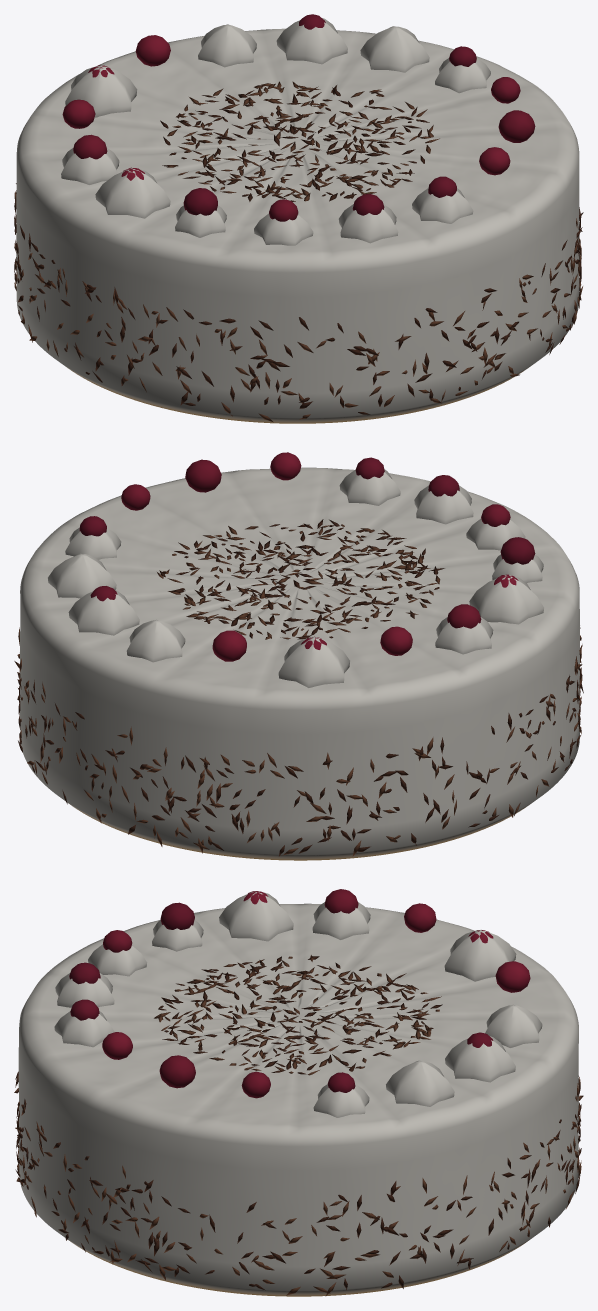
The model's file is schwarzwaelder-kirsch-torte.glb.
3 views of the same model, one above another, from view 1: azimuth 30°, elevation 25°; view 2: azimuth 150°, elevation 25°; view 3: azimuth 270°, elevation 25° (orthographic).
Visible parts, largest first — view 1: schwarzwaelder-kirsch-torte; view 2: schwarzwaelder-kirsch-torte; view 3: schwarzwaelder-kirsch-torte.
Part boxes in pixels (x1,y1,x2,y2): schwarzwaelder-kirsch-torte: [14, 14, 583, 423]; schwarzwaelder-kirsch-torte: [14, 452, 583, 860]; schwarzwaelder-kirsch-torte: [14, 889, 583, 1296].
Bounding box in the file's own units: 0.2638 × 0.1045 × 0.2649.
